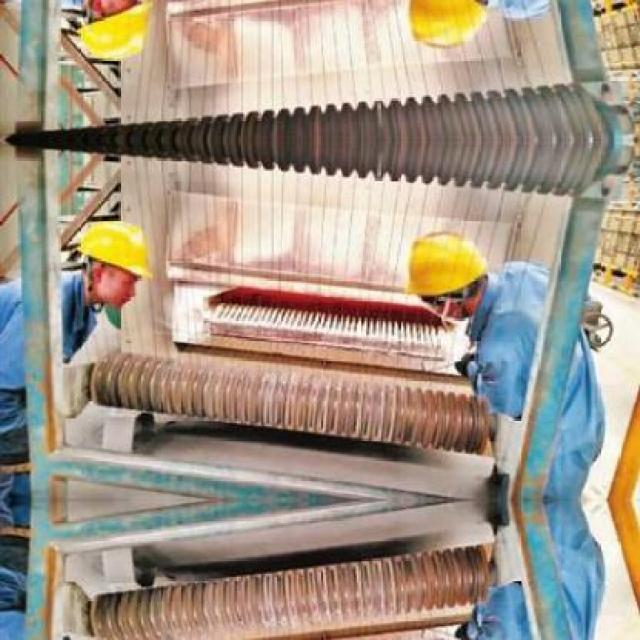Helmet: (389, 222, 485, 318), (69, 214, 160, 312), (68, 0, 160, 68), (389, 0, 486, 60)
